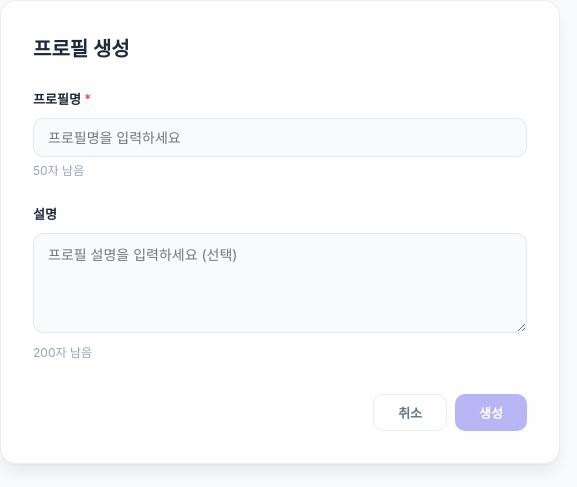
Test: ProfileForm › 남은 글자 수 카운트를 표시한다
This screenshot has width=577, height=487.
Expected: the text with test id "profile-name-count" reads "50자 남음", left=33, top=161, right=84, bottom=180
Expected: the text with test id "profile-description-count" reads "200자 남음", left=33, top=343, right=92, bottom=362
Type "테스트" into the field with test id "profile-name-input" at {"x": 280, "y": 137}, box left=33, top=118, right=527, bottom=157
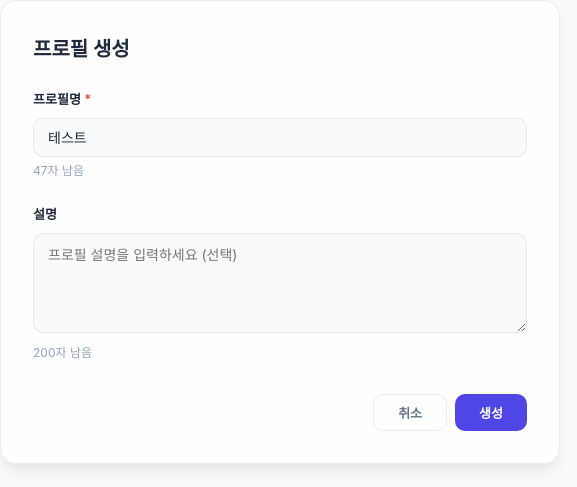
Expected: the text with test id "profile-name-count" reads "47자 남음", left=33, top=161, right=84, bottom=180
